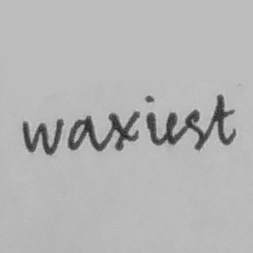a: (65, 112, 96, 152)
e: (163, 110, 182, 147)
i: (143, 94, 161, 148)
s: (183, 107, 208, 152)
t: (210, 91, 238, 147)
w: (19, 117, 64, 156)
x: (107, 109, 142, 152)
